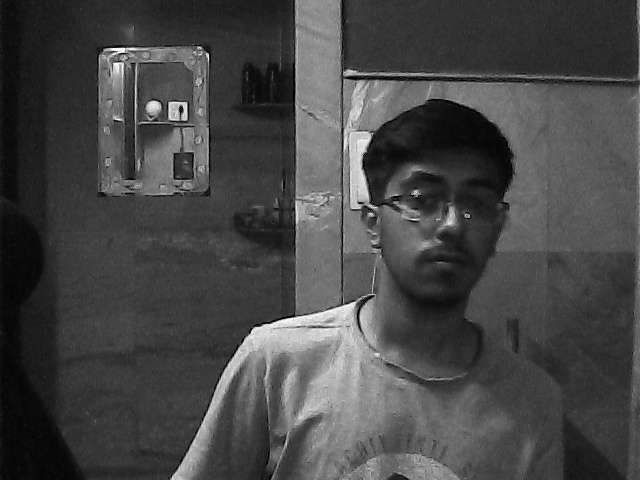nomask: (376, 151, 499, 308)
